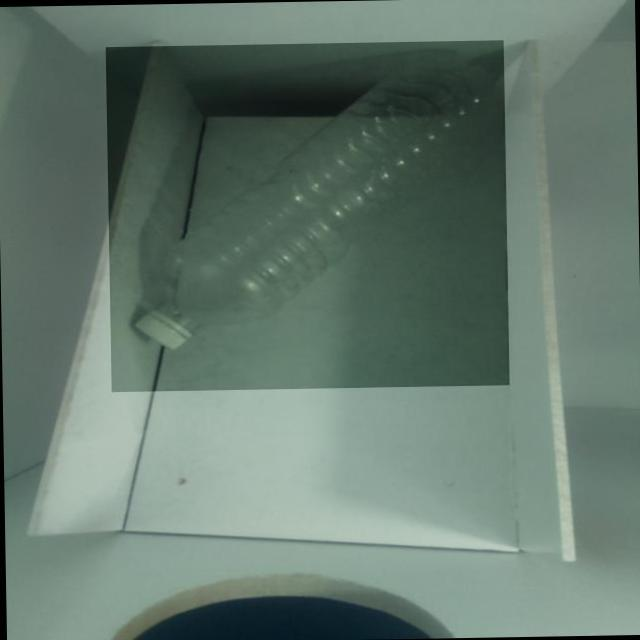good: (104, 37, 508, 390)
